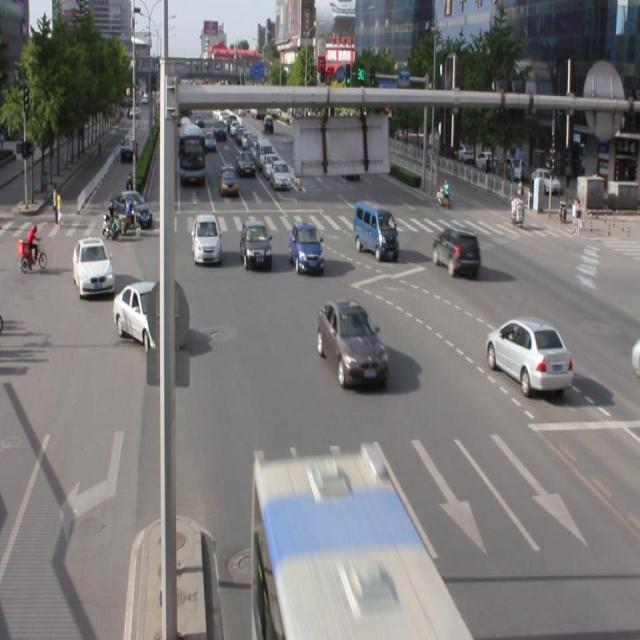car: (485, 314, 572, 394), (316, 298, 388, 386), (113, 280, 180, 352), (432, 222, 481, 277), (290, 220, 324, 273), (239, 218, 272, 270), (192, 212, 222, 264)
truck: (353, 200, 398, 259)
van: (253, 455, 469, 640)
